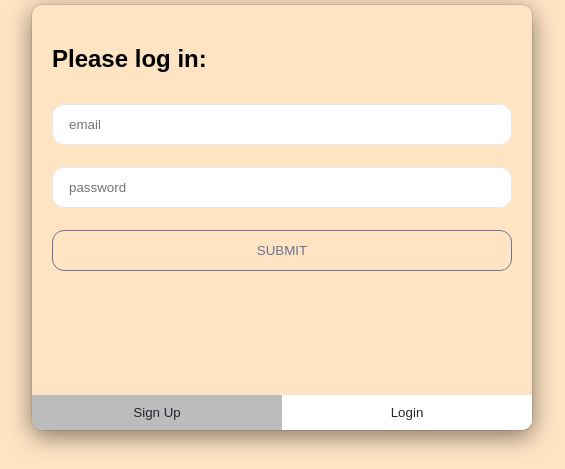
Test: Auth Component › should display an error message if passwords do not match during registration
The image size is (565, 469).
Click the button "Sign Up" at (157, 412), box [32, 395, 282, 430]
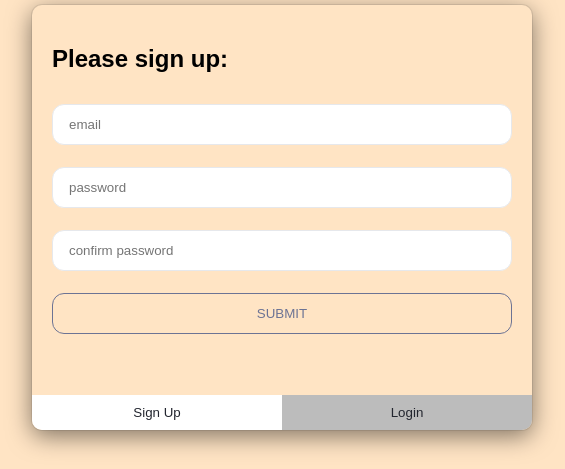
Type "password123" into the password field with placeholder "password" at (282, 187), box [52, 167, 512, 208]
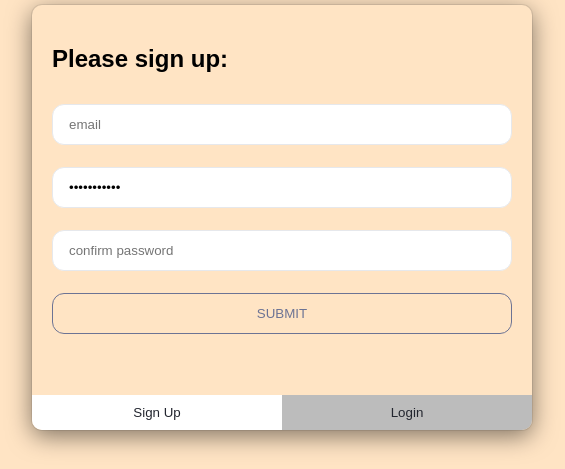
Type "differentPassword" into the password field with placeholder "confirm password" at (282, 250), box [52, 230, 512, 271]
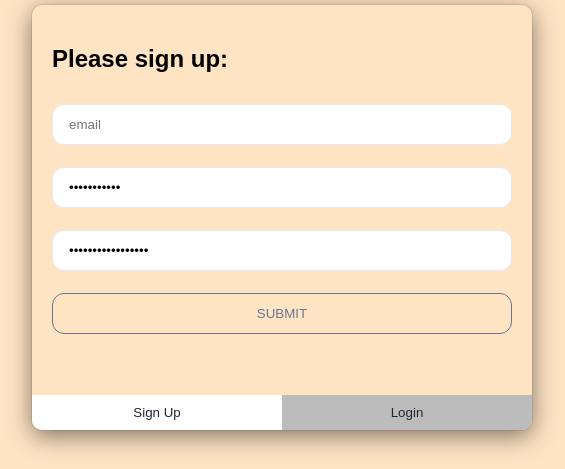
Click the button named "submit" at (282, 313), box [52, 293, 512, 334]
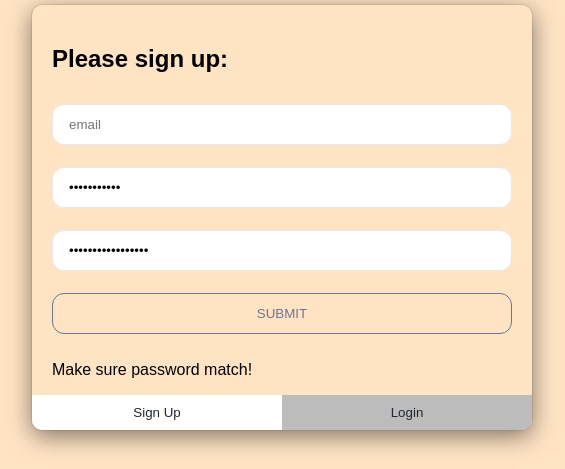
Now the text "Make sure password match!" is shown, box [52, 361, 252, 378]
